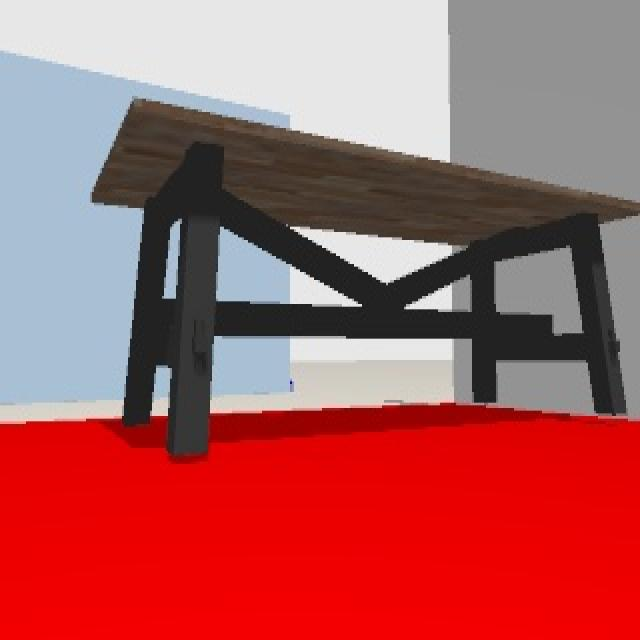dining: (89, 97, 640, 451)
